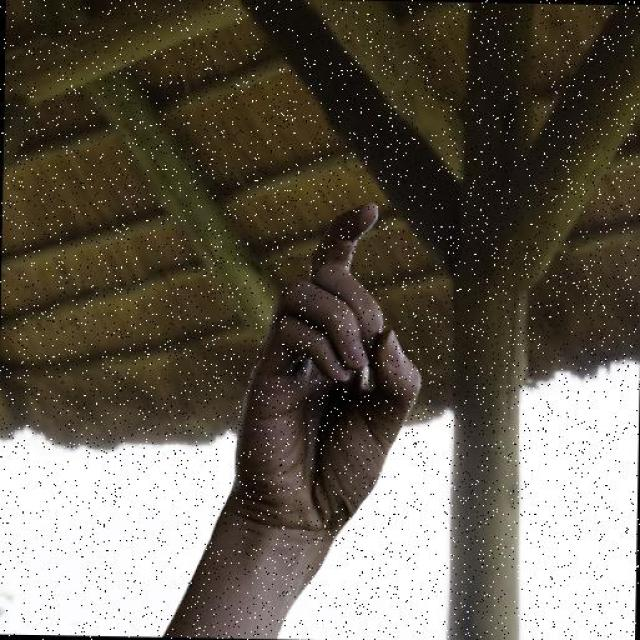X: (239, 196, 428, 534)
